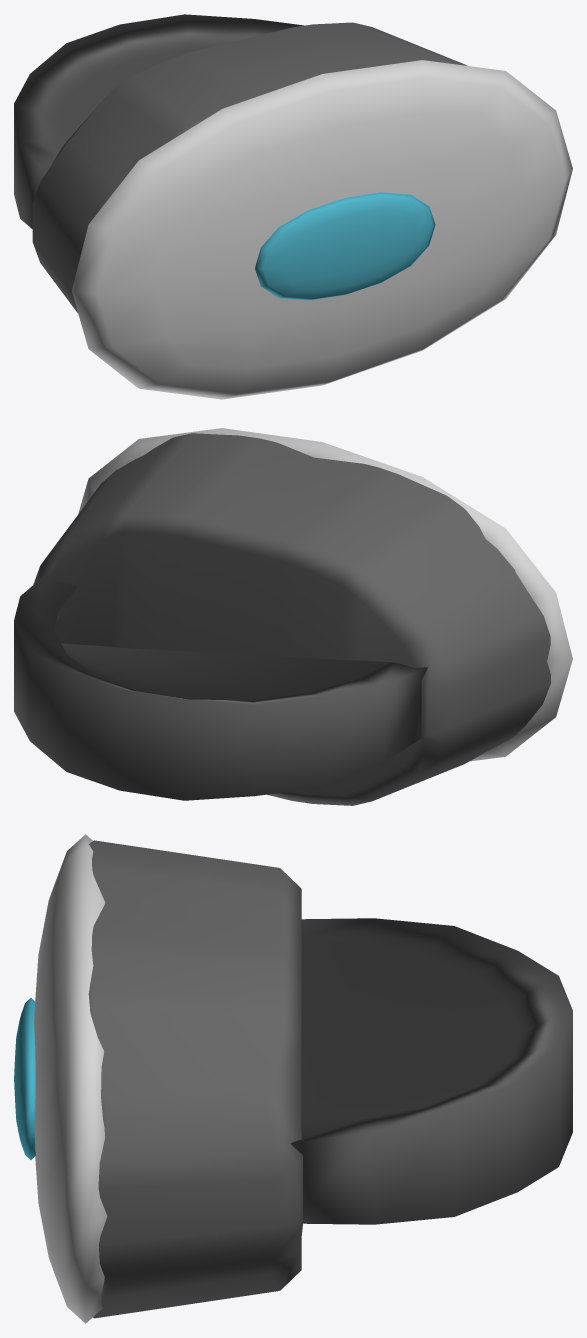
File: VR HEADSET FBX.fbx
The picture shows the model from 3 angles, top to bottom: view 1: azimuth 30°, elevation 25°; view 2: azimuth 150°, elevation 25°; view 3: azimuth 270°, elevation 25°; orthographic projection. The views are drawn at different scales.
Visible parts, largest first — view 1: pCube1, pCube2, pCylinder1, pCube3; view 2: pCube2, pCylinder1, pCube1; view 3: pCube2, pCylinder1, pCube1, pCube3.
Part boxes in pixels (bbox=[...]): pCube1: bbox=[71, 60, 572, 399]; pCube2: bbox=[32, 22, 466, 312]; pCylinder1: bbox=[14, 14, 303, 228]; pCube3: bbox=[255, 192, 435, 300]; pCube2: bbox=[33, 433, 550, 805]; pCylinder1: bbox=[14, 574, 427, 800]; pCube1: bbox=[78, 428, 572, 761]; pCube2: bbox=[88, 840, 302, 1318]; pCylinder1: bbox=[290, 918, 572, 1224]; pCube1: bbox=[34, 834, 107, 1323]; pCube3: bbox=[14, 998, 35, 1159].
Bounding box in the file's own units: 5.06 × 3.01 × 4.07.
